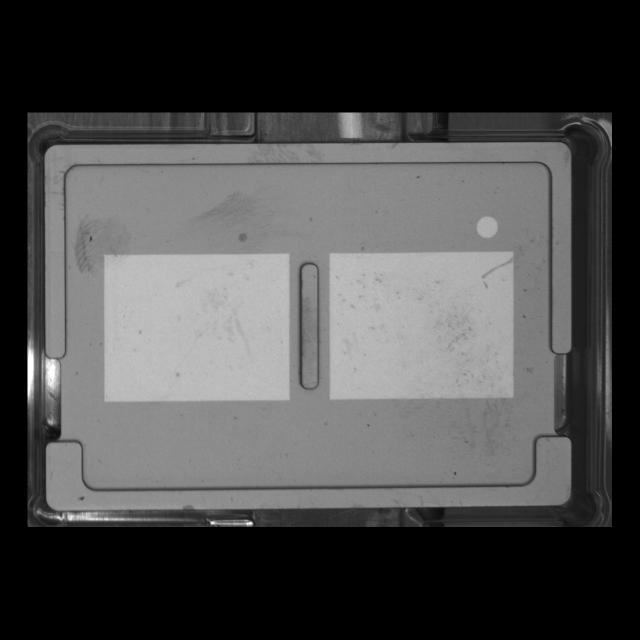door: (34, 428, 578, 512)
point: (472, 211, 502, 243)
